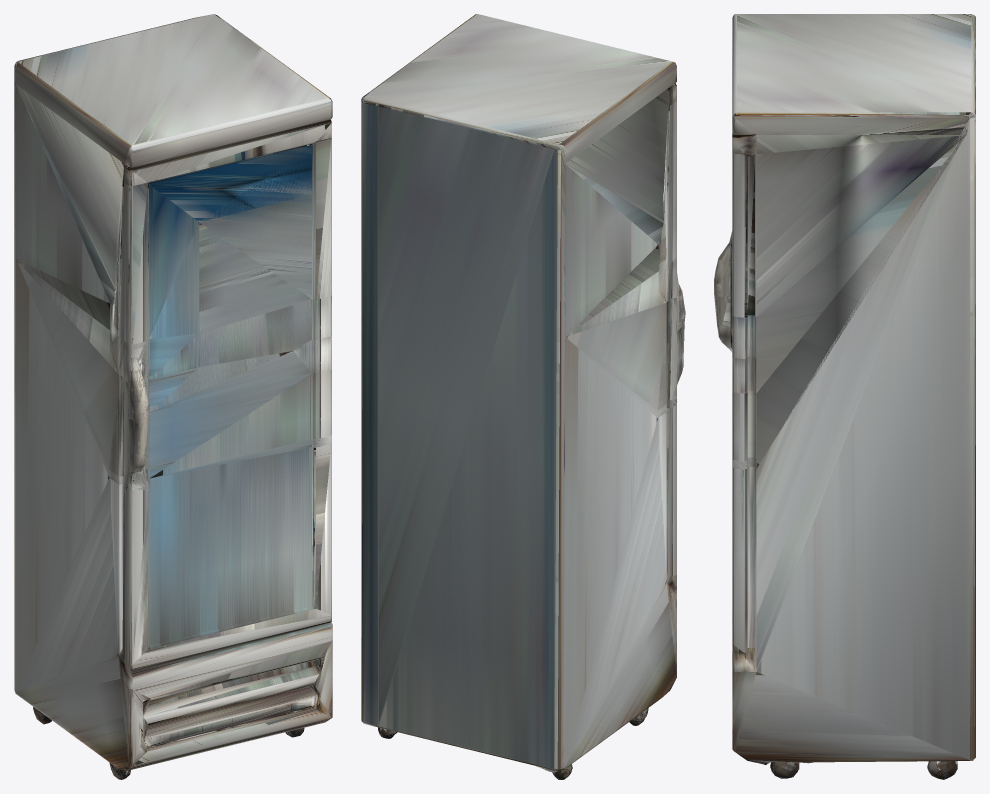
File: Meshy_AI_Carrier_Glass_Door_Di_0519010641_texture.fbx
3 views of the same model, side by side, from view 1: azimuth 30°, elevation 25°; view 2: azimuth 150°, elevation 25°; view 3: azimuth 270°, elevation 25° (orthographic). The views are drawn at different scales.
Parts seen in each view (by area): view 1: Mesh_0; view 2: Mesh_0; view 3: Mesh_0.
Part boxes in pixels (x1,y1,x2,y2): Mesh_0: (14,14,332,779); Mesh_0: (361,14,685,779); Mesh_0: (714,14,975,779).
Bounding box in the file's own units: 63.01 × 191 × 67.32.
Materials: 1 (1 with a texture image).
